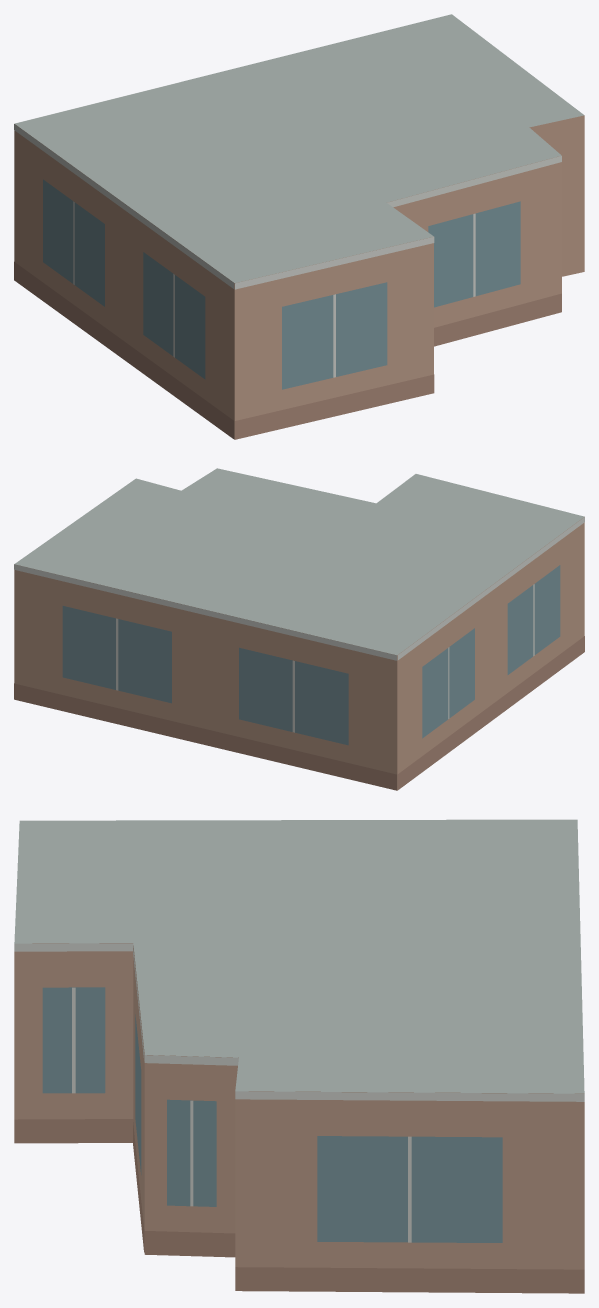
File: survey-upis-32639591.glb
3 views of the same model, one above another, from view 1: azimuth 30°, elevation 25°; view 2: azimuth 150°, elevation 25°; view 3: azimuth 270°, elevation 25° (orthographic). The views are drawn at different scales.
Visible parts, largest first — view 1: survey-upis-32639591.tmp; view 2: survey-upis-32639591.tmp; view 3: survey-upis-32639591.tmp.
Boxes of the visible parts, bbox=[...] form: survey-upis-32639591.tmp: bbox=[14, 14, 584, 439]; survey-upis-32639591.tmp: bbox=[14, 468, 584, 790]; survey-upis-32639591.tmp: bbox=[14, 819, 584, 1293].
Bounding box in the file's own units: 8.99 × 3.05 × 7.9.
